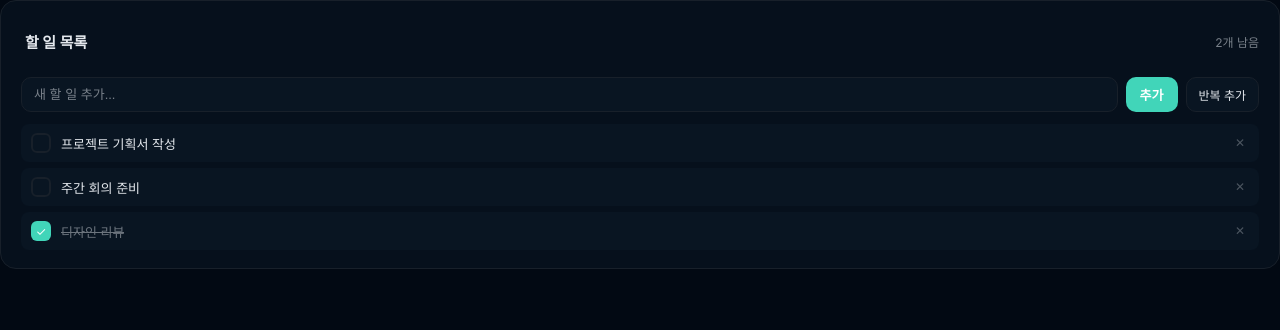
TodoWidget › adds a new todo on Enter key
Type "새 작업" into the field with placeholder "새 할 일 추가..." at (569,94), box [21,77,1118,112]
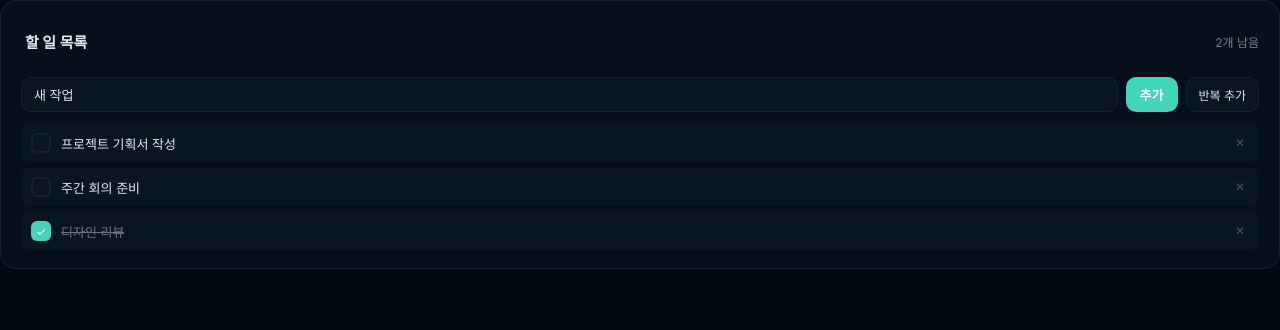
Press Enter in the field with placeholder "새 할 일 추가...", box [21,77,1118,112]
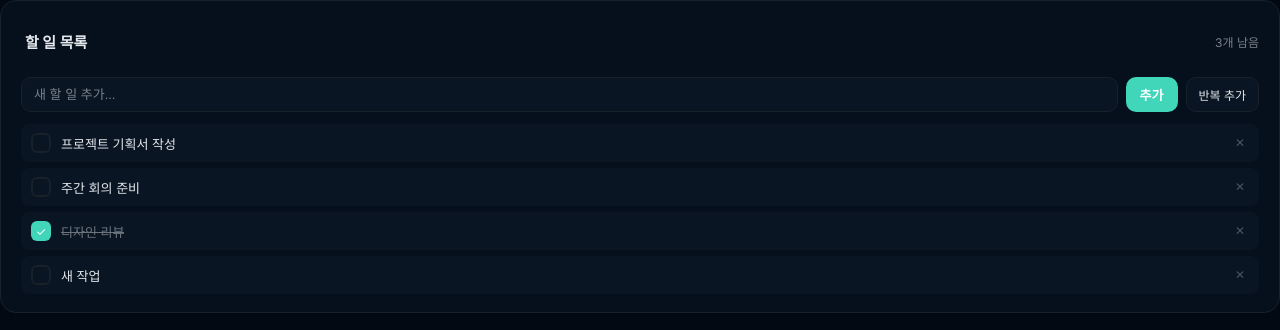
Now the text "새 작업" is shown, box [61,266,100,284]
